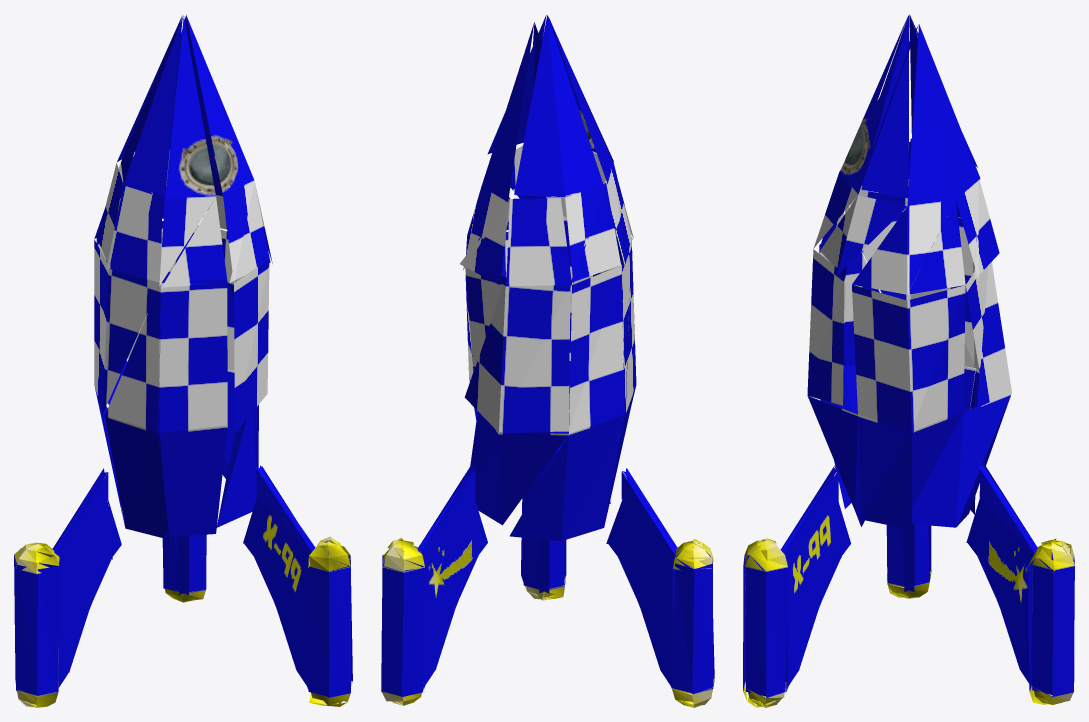
File: rocket3.obj
The picture shows the model from 3 angles, left to right: view 1: azimuth 30°, elevation 25°; view 2: azimuth 150°, elevation 25°; view 3: azimuth 270°, elevation 25°; orthographic projection.
Visible parts, largest first — view 1: Rocket, wing02, reactor01, reactor02, wing01, reactor03, wing03; view 2: Rocket, wing01, wing03, reactor03, reactor01, reactor02, wing02; view 3: Rocket, reactor03, wing02, reactor02, wing03, reactor01, wing01.
Part boxes in pixels (x1,y1,x2,y2): Rocket: (94, 15, 272, 539); wing02: (243, 465, 315, 689); reactor01: (14, 542, 59, 707); reactor02: (308, 536, 352, 706); wing01: (49, 468, 121, 687); reactor03: (162, 534, 206, 602); wing03: (178, 535, 188, 594); Rocket: (460, 15, 636, 541); wing01: (606, 468, 681, 688); wing03: (418, 463, 487, 690); reactor03: (381, 538, 424, 705); reactor01: (672, 539, 714, 707); reactor02: (521, 478, 566, 600); wing02: (539, 539, 549, 593); Rocket: (807, 14, 1011, 529); reactor03: (1028, 538, 1074, 704); wing02: (780, 465, 850, 691); reactor02: (743, 538, 787, 707); wing03: (966, 465, 1037, 686); reactor01: (886, 524, 931, 598); wing01: (904, 524, 914, 591).
Size of the model in its own units: 167 by 395 by 182.
1 material, 1 textured.
